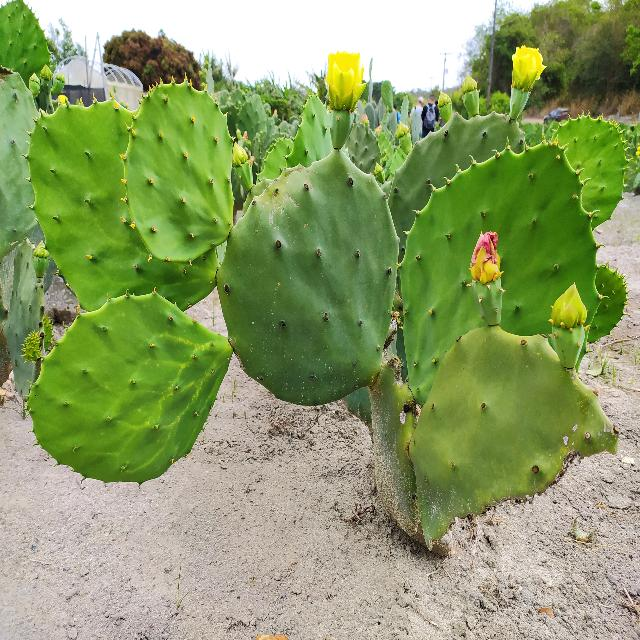adequadas para corte: (141, 74, 386, 309), (427, 158, 640, 314), (436, 0, 640, 158), (278, 0, 432, 131), (474, 337, 613, 453), (404, 0, 577, 89), (0, 252, 93, 373), (293, 286, 428, 361), (404, 109, 491, 213), (265, 352, 362, 444), (571, 445, 640, 512), (504, 488, 573, 550)
inadequadas para corte: (0, 0, 276, 153), (112, 260, 292, 449), (341, 415, 469, 508), (78, 147, 168, 274), (216, 440, 321, 541), (571, 284, 640, 421), (495, 305, 549, 469), (129, 445, 205, 537), (310, 444, 370, 549), (12, 371, 103, 437), (419, 364, 474, 437), (53, 263, 107, 318), (42, 339, 111, 382), (283, 339, 331, 392)
